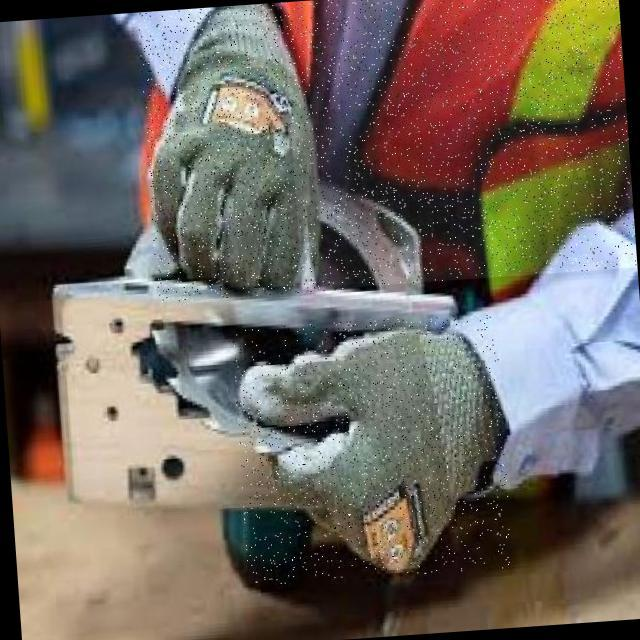Gloves: (236, 318, 529, 592), (138, 9, 345, 313)
Safety Vest: (282, 0, 637, 290)
